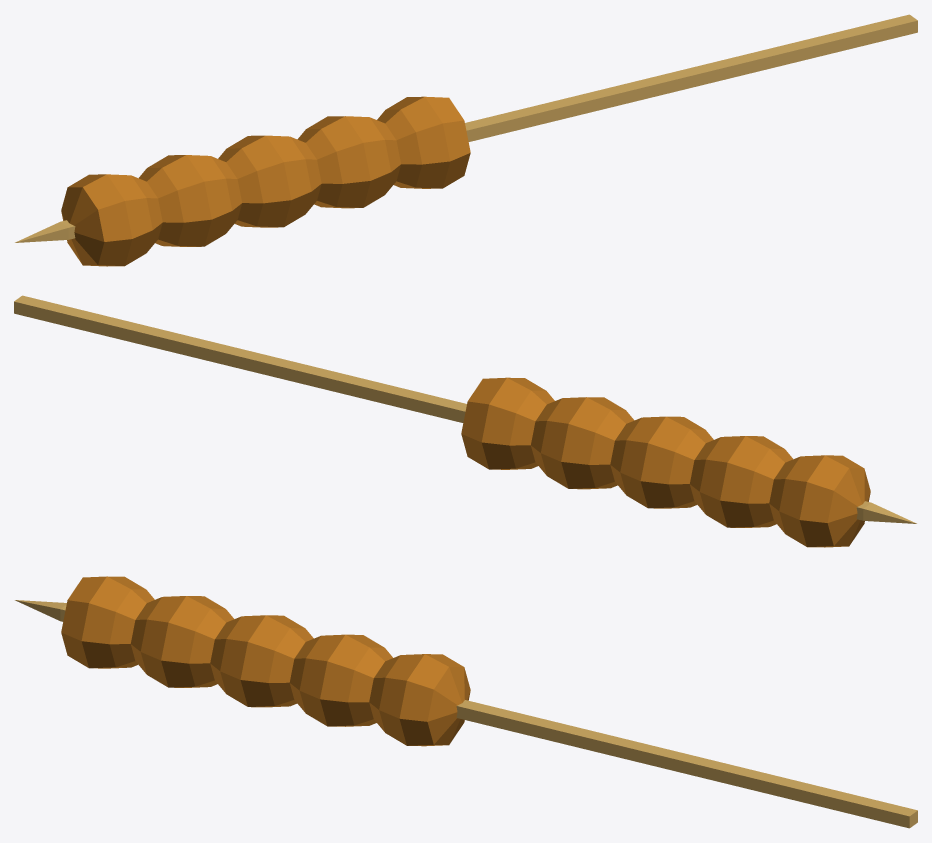
Rendered from SM_Cook_SkewerFishball_Grilled_01.fbx.
The picture shows the model from 3 angles, top to bottom: view 1: azimuth 30°, elevation 25°; view 2: azimuth 150°, elevation 25°; view 3: azimuth 330°, elevation 25°; orthographic projection.
Parts seen in each view (by area): view 1: SM_Cook_SkewerFishball_Grilled_01; view 2: SM_Cook_SkewerFishball_Grilled_01; view 3: SM_Cook_SkewerFishball_Grilled_01.
Part boxes in pixels (left/top/right/bottom): SM_Cook_SkewerFishball_Grilled_01: left=15, top=14, right=917, bottom=266; SM_Cook_SkewerFishball_Grilled_01: left=14, top=295, right=916, bottom=547; SM_Cook_SkewerFishball_Grilled_01: left=15, top=576, right=917, bottom=828.
Bounding box in the file's own units: 0.25 × 0.0245 × 0.0245.
Materials: 1 (1 with a texture image).
